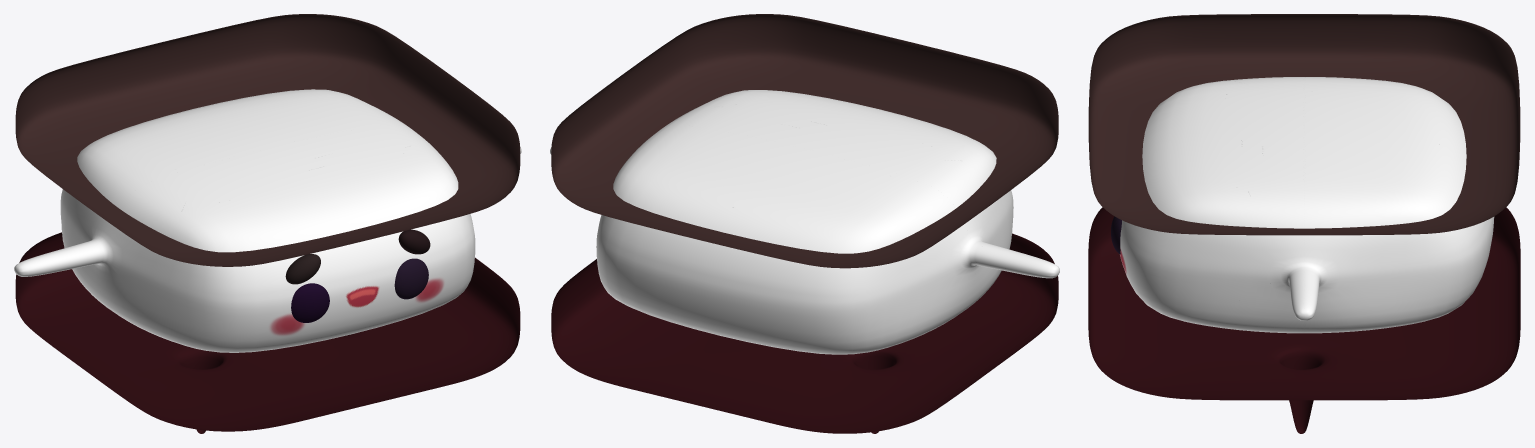
Rendered from ciastko2.fbx.
3 views of the same model, side by side, from view 1: azimuth 30°, elevation 25°; view 2: azimuth 150°, elevation 25°; view 3: azimuth 270°, elevation 25° (orthographic).
Visible parts, largest first — view 1: Roundcube, Roundcube.006, Roundcube.005, Roundcube.007, Roundcube.009, Roundcube.008, Roundcube.010; view 2: Roundcube, Roundcube.006, Roundcube.005; view 3: Roundcube, Roundcube.006, Roundcube.005.
Boxes of the visible parts, <box> form: Roundcube: <box>14,89,521,352</box>; Roundcube.006: <box>15,14,520,266</box>; Roundcube.005: <box>15,232,520,433</box>; Roundcube.007: <box>291,283,329,322</box>; Roundcube.009: <box>394,258,428,299</box>; Roundcube.008: <box>285,254,320,284</box>; Roundcube.010: <box>398,229,430,254</box>; Roundcube: <box>550,90,1059,354</box>; Roundcube.006: <box>551,14,1058,268</box>; Roundcube.005: <box>551,233,1058,433</box>; Roundcube: <box>1120,77,1494,333</box>; Roundcube.006: <box>1088,14,1520,235</box>; Roundcube.005: <box>1088,207,1520,433</box>.
Size of the model in its own units: 348 by 204 by 258.
7 materials, 1 textured.
